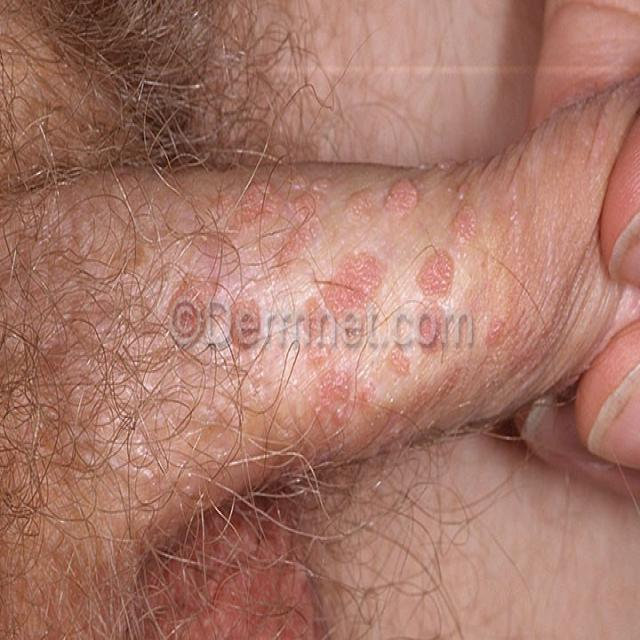Shingles: (169, 164, 480, 454)
